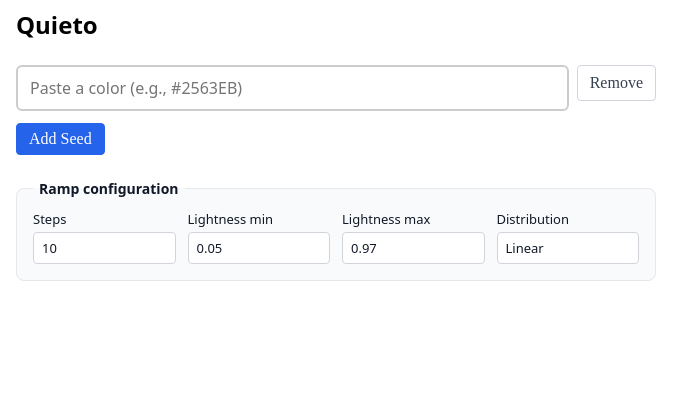
Scenario: App › multiple seeds › disables Add Seed after the third seed is added
Click the button "Add Seed". click: (60, 139)
box: top-left (16, 123), bottom-right (105, 155)
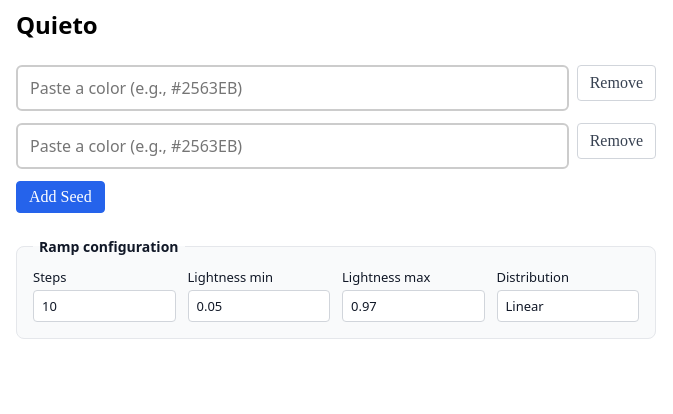
Click the button "Add Seed". click: (60, 197)
box: top-left (16, 181), bottom-right (105, 213)
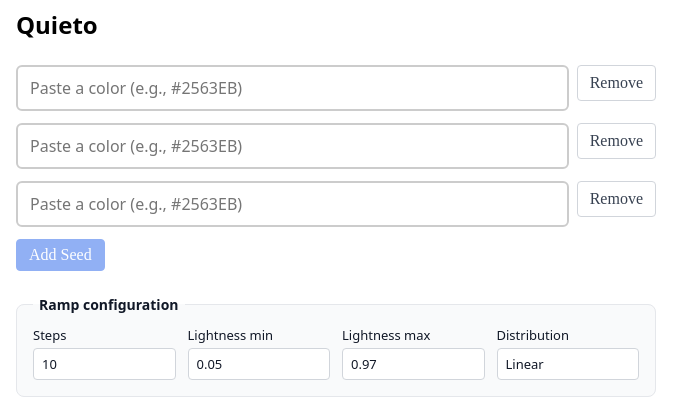
Result: the number of fields with placeholder "Paste a color (e.g., #2563EB)" is 3 at top-left (16, 65), bottom-right (569, 111); top-left (16, 123), bottom-right (569, 169); top-left (16, 181), bottom-right (569, 227)
